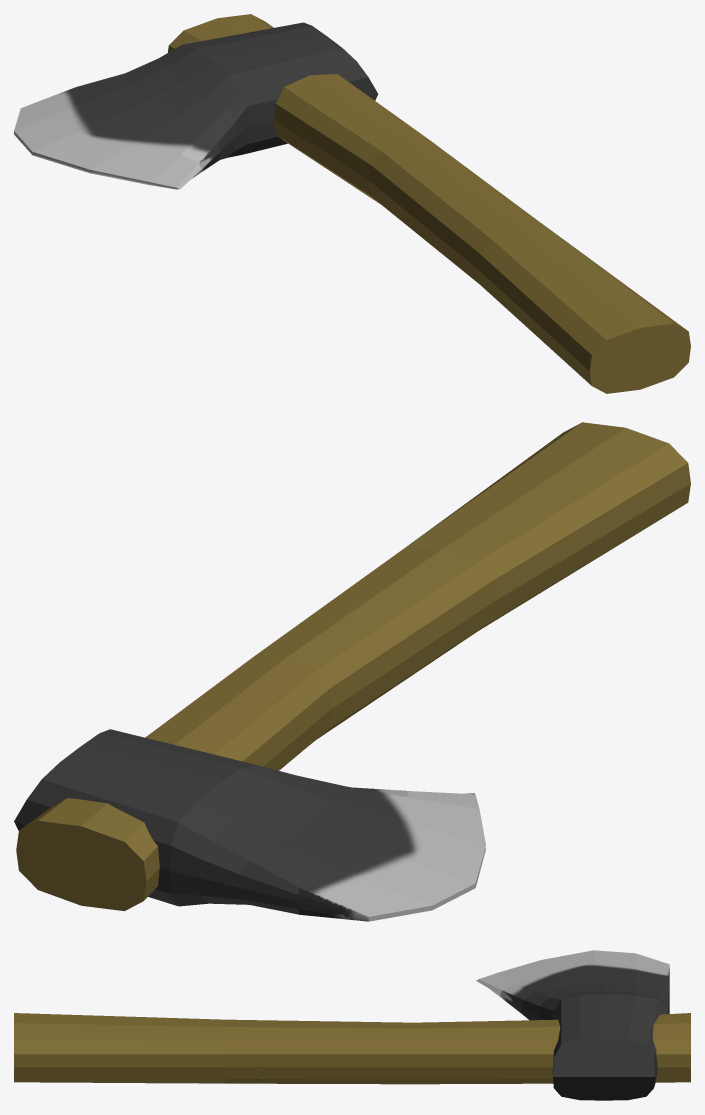
File: HatchetSharp.fbx
3 views of the same model, one above another, from view 1: azimuth 30°, elevation 25°; view 2: azimuth 150°, elevation 25°; view 3: azimuth 270°, elevation 25° (orthographic). The views are drawn at different scales.
Visible parts, largest first — view 1: HatchetSharp; view 2: HatchetSharp; view 3: HatchetSharp.
Part boxes in pixels (bbox=[...]): HatchetSharp: bbox=[14, 14, 690, 393]; HatchetSharp: bbox=[14, 422, 690, 921]; HatchetSharp: bbox=[14, 950, 690, 1100].
Bounding box in the file's own units: 53.85 × 12.61 × 123.
